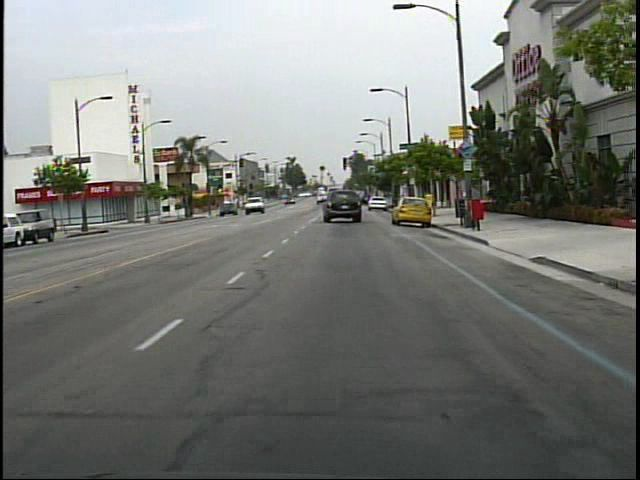person: (461, 183, 483, 219)
